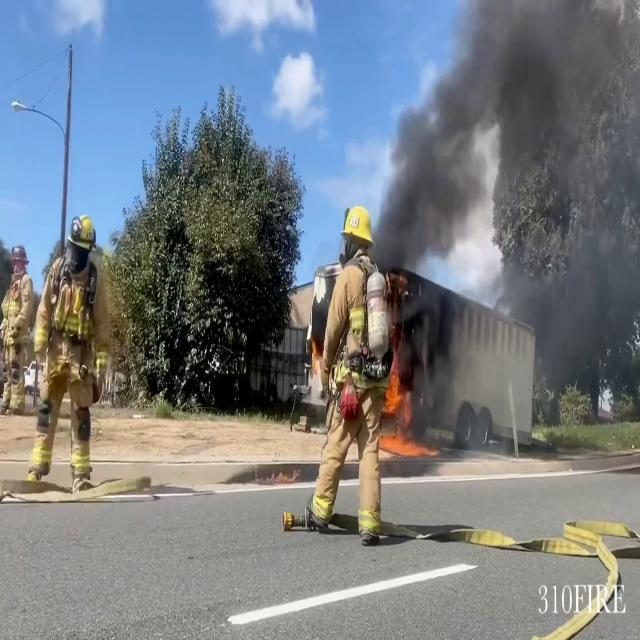Fire: (382, 350, 412, 433)
Smoke: (372, 0, 640, 282)
